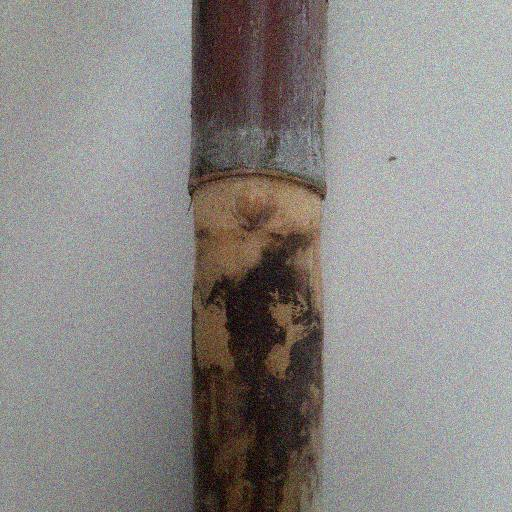Bud: (232, 177, 275, 229)
